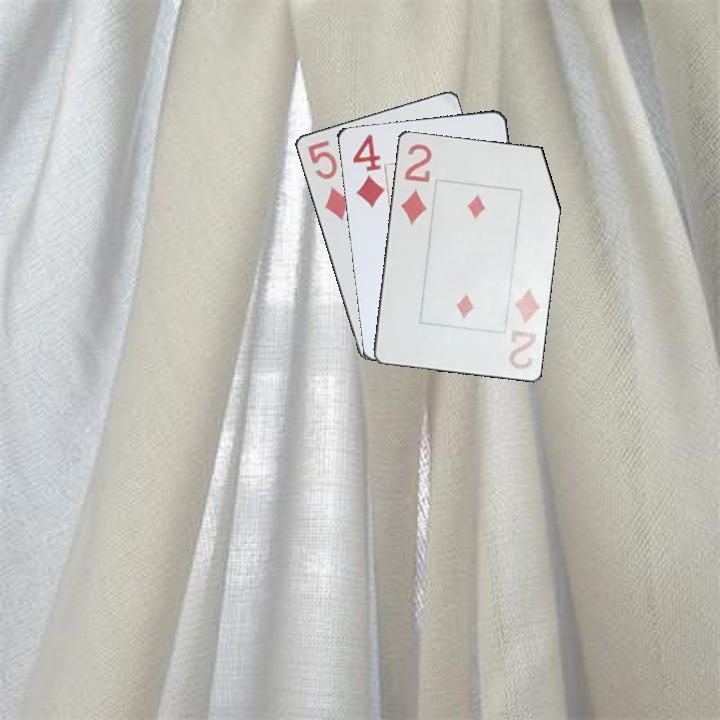2d: (505, 283, 544, 372), (397, 140, 434, 228)
4d: (349, 131, 386, 211)
5d: (304, 137, 354, 223)
